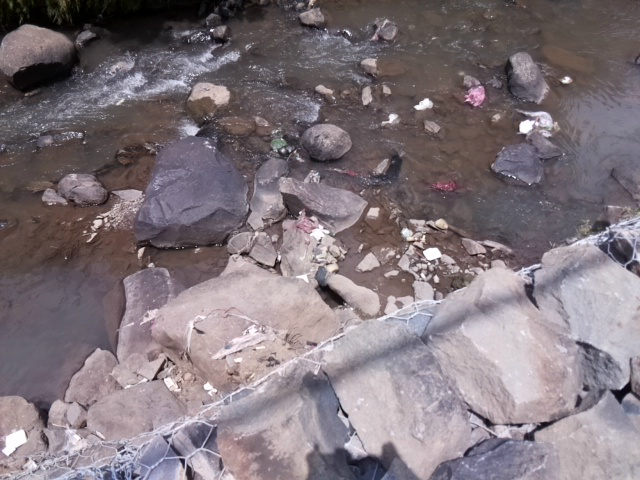Sampah_Plastik: (296, 210, 321, 237), (529, 108, 560, 128), (465, 85, 485, 106), (433, 181, 456, 191)
Sampah_Styrofoam: (3, 426, 28, 451), (519, 119, 535, 136), (422, 247, 441, 259), (416, 98, 431, 110)
